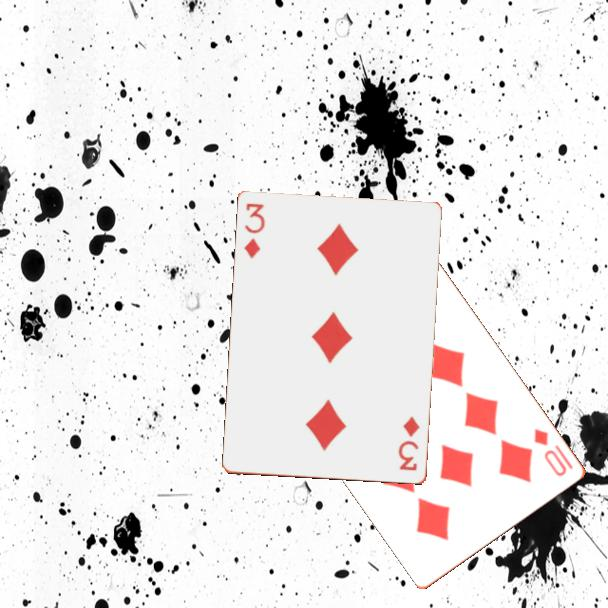d03: (396, 413, 423, 474), (241, 200, 268, 261)
d10: (531, 425, 570, 480)
